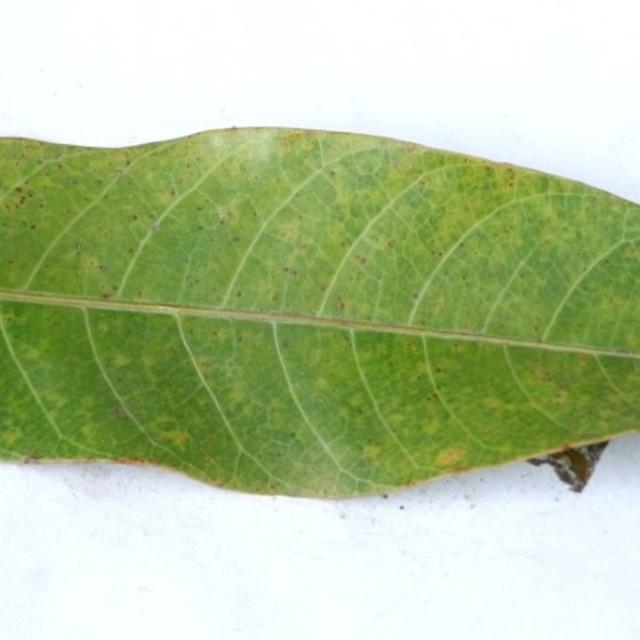Mango: (0, 128, 639, 497)
Powdery_Mildew: (141, 410, 194, 447), (342, 153, 395, 189), (430, 438, 478, 469), (214, 197, 253, 230), (356, 433, 387, 466), (3, 185, 37, 214), (78, 252, 108, 282), (89, 455, 163, 466), (269, 307, 322, 322), (274, 221, 303, 245), (383, 476, 430, 490), (282, 131, 314, 146), (421, 417, 444, 436), (2, 426, 24, 445), (149, 302, 187, 313), (226, 388, 248, 406), (554, 454, 574, 473), (206, 134, 233, 148), (79, 424, 101, 441), (140, 354, 160, 370), (110, 353, 131, 368), (46, 394, 67, 409), (183, 274, 203, 289), (20, 346, 41, 360), (482, 397, 504, 410), (414, 362, 435, 375), (551, 390, 570, 404), (112, 404, 129, 419), (349, 393, 366, 408), (313, 377, 331, 391), (264, 478, 283, 491), (499, 159, 521, 170), (387, 414, 406, 426), (3, 310, 18, 324), (504, 171, 516, 187), (282, 266, 298, 276), (149, 220, 162, 232), (210, 477, 226, 486), (23, 456, 41, 464), (615, 347, 631, 355), (284, 433, 296, 443), (430, 249, 442, 258), (356, 255, 366, 265), (627, 247, 637, 257), (337, 300, 346, 311), (183, 132, 197, 139), (418, 179, 427, 188), (426, 393, 436, 401), (114, 169, 123, 177), (217, 213, 225, 222), (387, 240, 395, 248), (320, 284, 328, 292), (169, 347, 177, 355), (340, 241, 348, 249), (101, 292, 110, 299), (75, 242, 82, 251), (533, 323, 540, 331), (15, 186, 23, 193), (125, 158, 132, 166), (169, 189, 176, 197), (218, 218, 225, 226), (356, 407, 363, 415), (228, 125, 239, 130), (329, 170, 336, 177), (322, 489, 329, 496), (132, 214, 138, 221), (236, 291, 242, 298), (197, 225, 204, 231), (30, 224, 36, 230), (412, 293, 418, 299), (128, 248, 134, 254), (382, 494, 388, 499)
